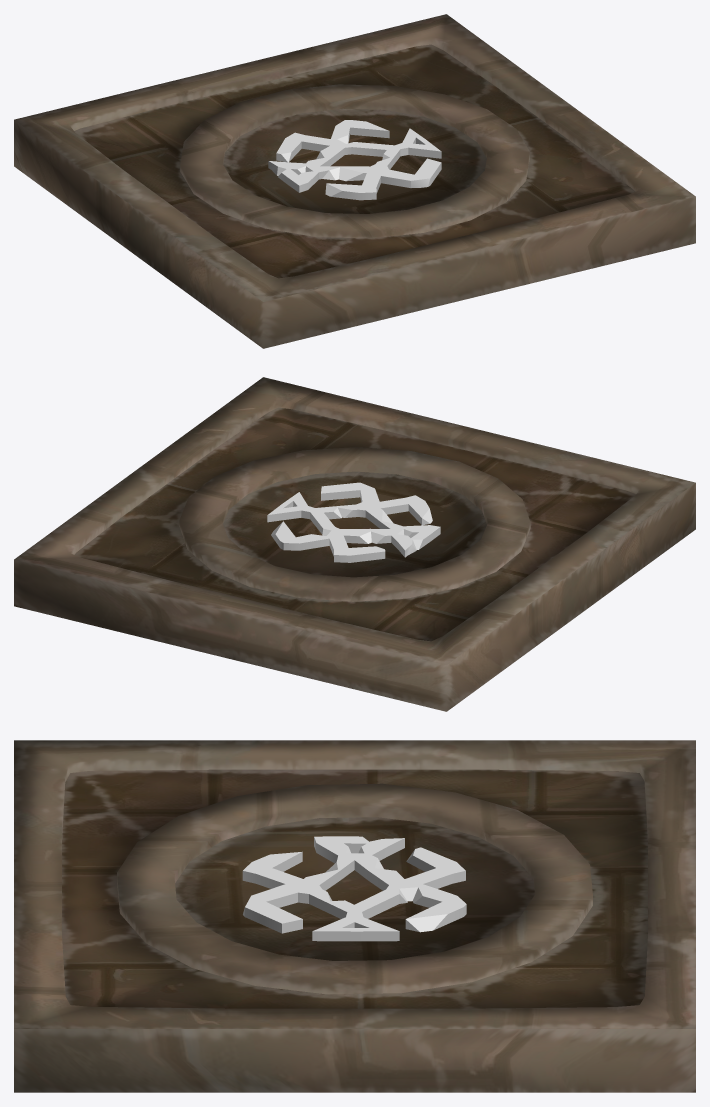
File: baldosa jefe.fbx
3 renders of one model, top to bottom at view 1: azimuth 30°, elevation 25°; view 2: azimuth 150°, elevation 25°; view 3: azimuth 270°, elevation 25°, orthographic. The views are drawn at different scales.
Visible parts, largest first — view 1: baldosa low.002, runa jefe.001; view 2: baldosa low.002, runa jefe.001; view 3: baldosa low.002, runa jefe.001.
Boxes of the visible parts, box(x1,y1,x2,y2) form: baldosa low.002: box(14, 14, 695, 348); runa jefe.001: box(268, 120, 441, 200); baldosa low.002: box(14, 377, 695, 711); runa jefe.001: box(267, 482, 440, 562); baldosa low.002: box(14, 740, 695, 1092); runa jefe.001: box(242, 836, 466, 941).
Bounding box in the file's own units: 45.2 × 4.73 × 45.12.
Materials: 1 (1 with a texture image).
